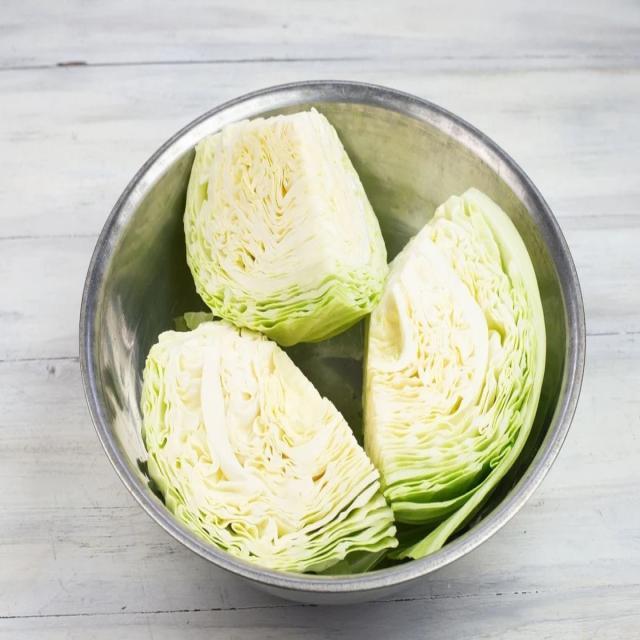cabbage: (139, 309, 403, 589), (356, 182, 548, 560), (184, 105, 392, 350)
